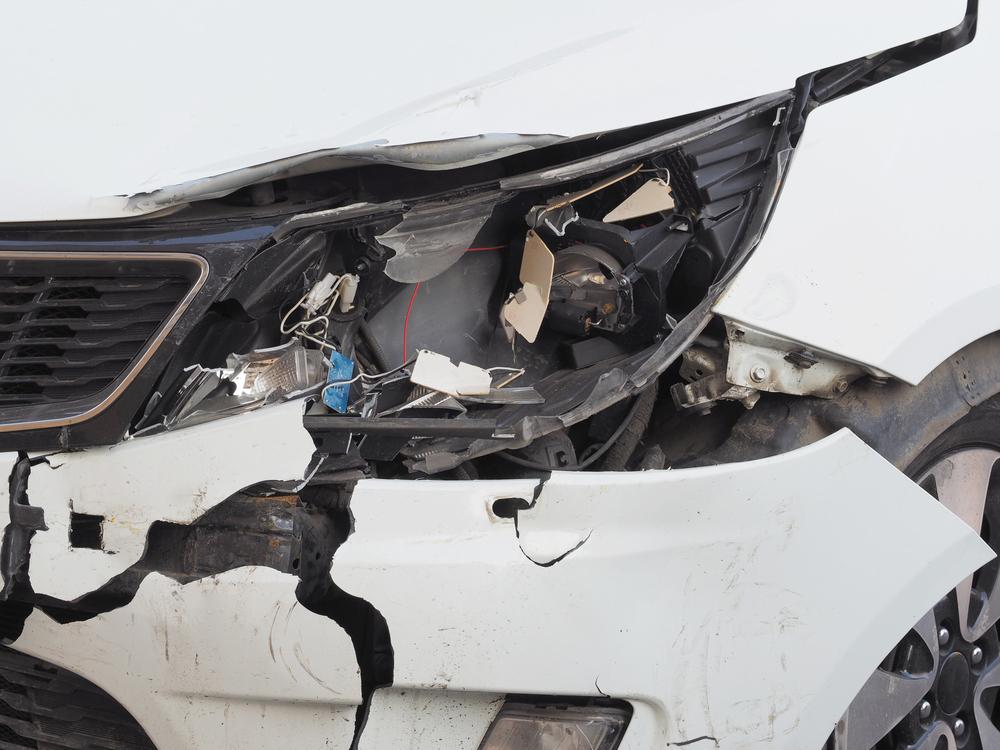crack: (0, 411, 395, 750), (490, 473, 594, 568)
lamp broken: (139, 98, 789, 434)
scratch: (672, 514, 810, 750)
